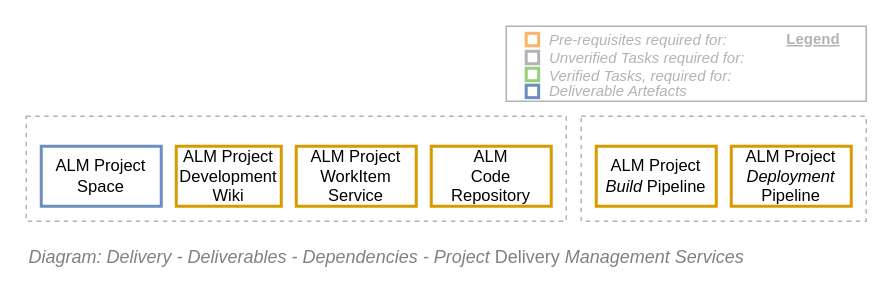
Image size: 893x299. Some labels were removed from this diagram. The shapes that lost their labels are listed below. From the top down, each one's box as (x1, y1, x2, y2) in pixels, then its label:
(25, 115, 566, 221): Project Delivery Management Space
(580, 115, 866, 221): Auto.Pipelines
